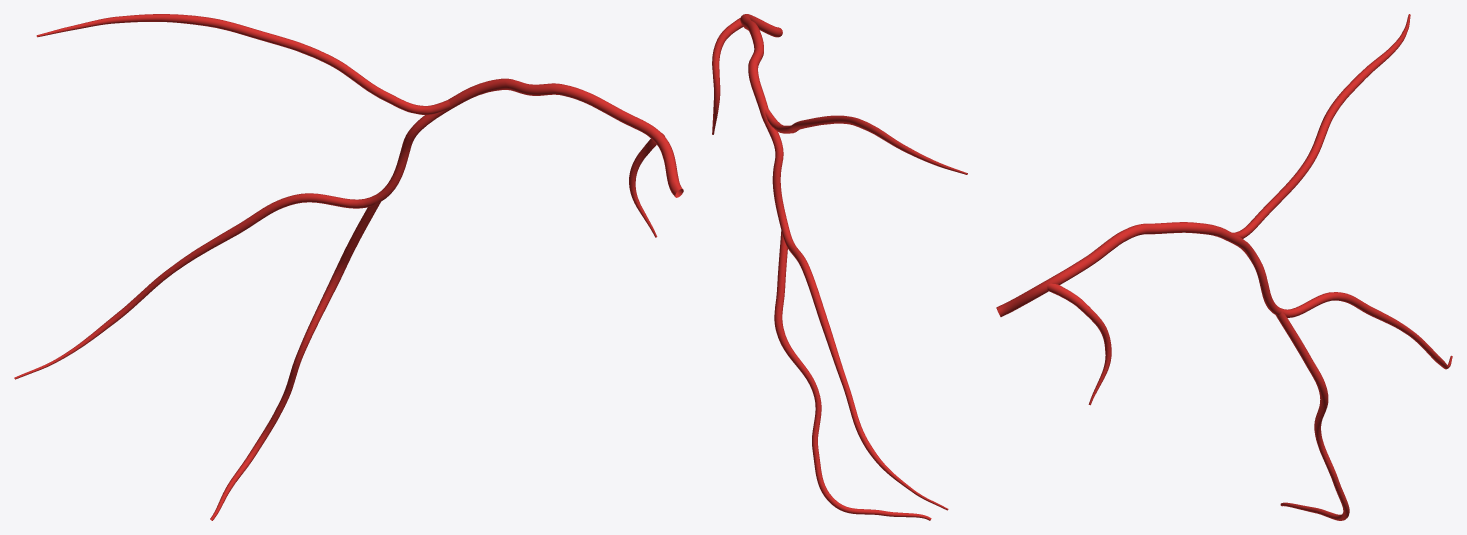
Rendered from circulatorio-temporo-occipital-branch-l.glb.
3 renders of one model, left to right at view 1: azimuth 30°, elevation 25°; view 2: azimuth 150°, elevation 25°; view 3: azimuth 270°, elevation 25°, orthographic. The views are drawn at different scales.
Visible parts, largest first — view 1: Temporo-occipital branch.l; view 2: Temporo-occipital branch.l, Branch to angular gyrus.l; view 3: Temporo-occipital branch.l, Branch to angular gyrus.l.
Part boxes in pixels (x1=…): Temporo-occipital branch.l: x1=14, y1=14, x2=683, y2=520; Temporo-occipital branch.l: x1=740, y1=14, x2=967, y2=520; Branch to angular gyrus.l: x1=712, y1=18, x2=742, y2=134; Temporo-occipital branch.l: x1=996, y1=14, x2=1452, y2=520; Branch to angular gyrus.l: x1=1046, y1=283, x2=1111, y2=405.
Bounding box in the file's own units: 0.0461 × 0.0456 × 0.0421.
